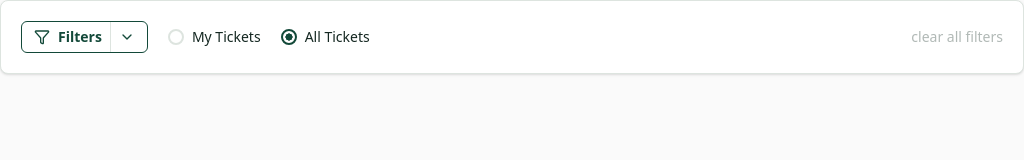
Test: InboxFilter › clear all filters › is enabled when only the assignedTo radio is switched to My Tickets
Click the radio button labelled "My Tickets" at (176, 37), box [168, 29, 184, 45]
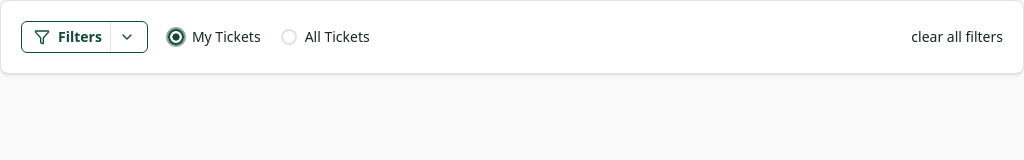
Now the button "clear all filters" is enabled, box [911, 27, 1003, 47]
